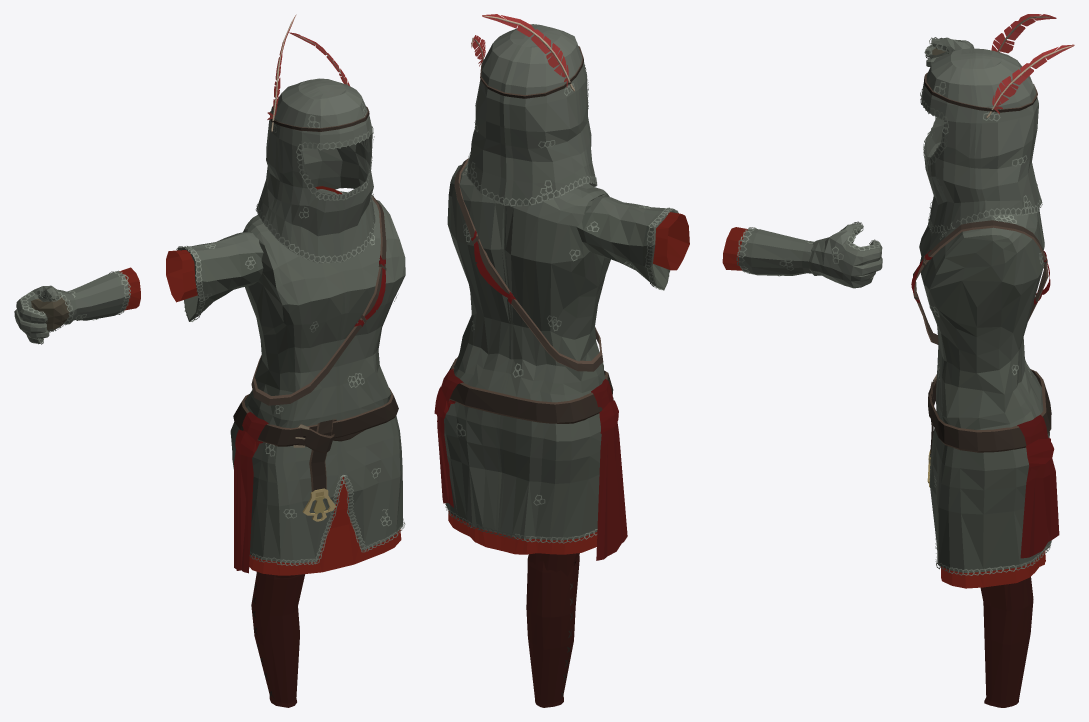
Rendered from chainmailArmorFemale.glb.
The picture shows the model from 3 angles, left to right: view 1: azimuth 30°, elevation 25°; view 2: azimuth 150°, elevation 25°; view 3: azimuth 270°, elevation 25°; orthographic projection. The views are drawn at different scales.
Parts seen in each view (by area): view 1: chainmailBody.003, chainmailHat, chainmailUpperArm.001, chainmailLowerPants, chainmailGloveLowerArm, chainmailGlove; view 2: chainmailBody.003, chainmailHat, chainmailUpperArm.001, chainmailLowerPants, chainmailGloveLowerArm, chainmailGlove, chainmailUpperPants; view 3: chainmailBody.003, chainmailHat, chainmailLowerPants, chainmailGlove.
Boxes of the visible parts, x1,y1,x2,y2 form: chainmailBody.003: (230,186,405,575); chainmailHat: (255,14,375,263); chainmailUpperArm.001: (166,232,263,321); chainmailLowerPants: (251,572,305,707); chainmailGloveLowerArm: (67,267,140,320); chainmailGlove: (14,285,76,344); chainmailBody.003: (434,158,627,560); chainmailHat: (466,14,597,206); chainmailUpperArm.001: (576,196,689,290); chainmailLowerPants: (526,554,579,707); chainmailGloveLowerArm: (722,227,814,276); chainmailGlove: (809,221,882,288); chainmailUpperPants: (529,553,579,576); chainmailBody.003: (911,209,1059,588); chainmailHat: (920,14,1074,233); chainmailLowerPants: (980,577,1033,707); chainmailGlove: (924,37,974,66).
Bounding box in the file's own units: 1.17 × 1.88 × 0.394.
